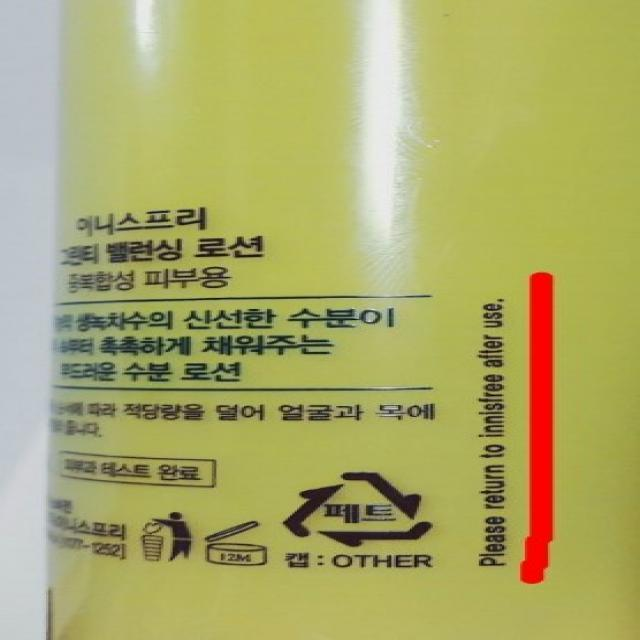PET: (271, 462, 448, 553)
